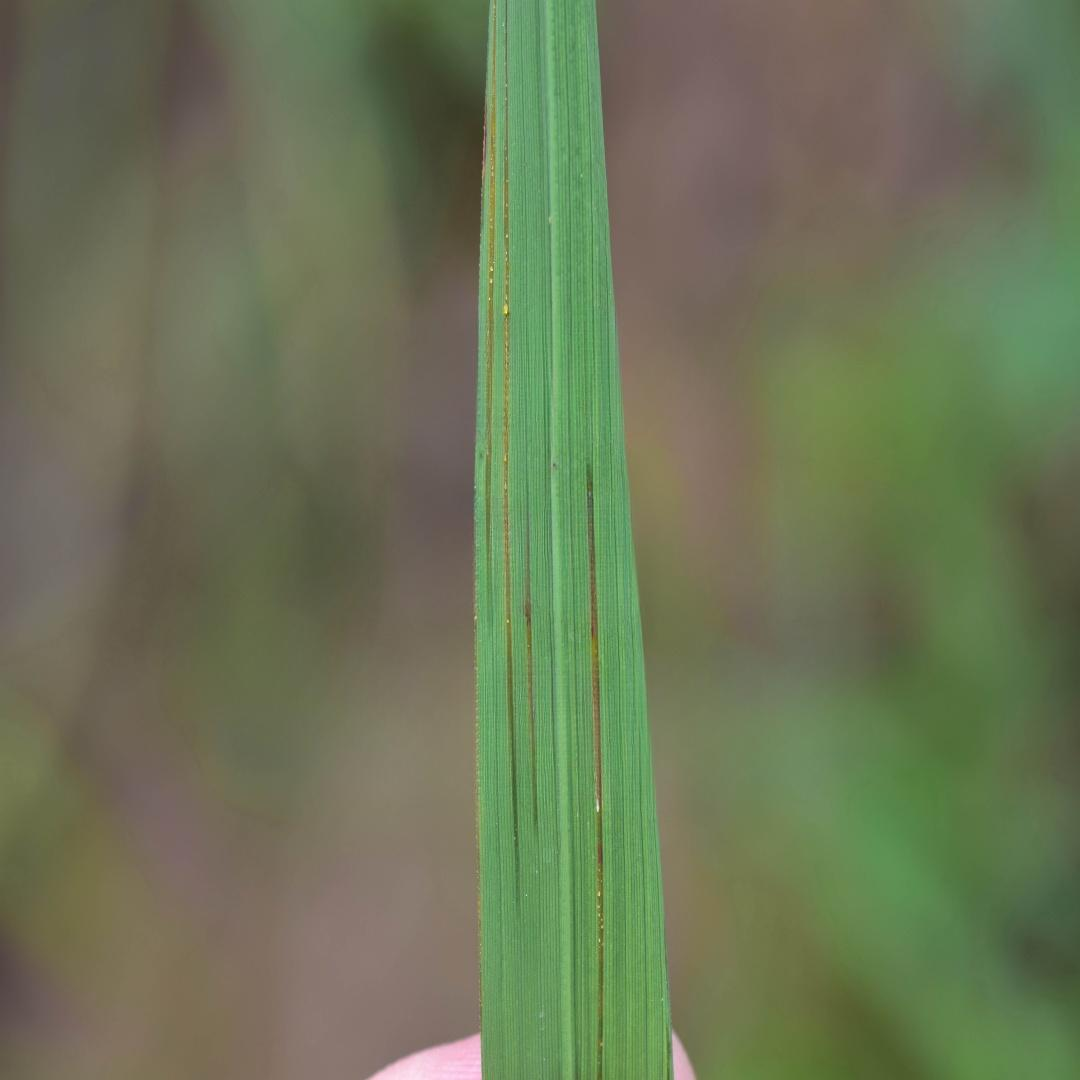BLS: (502, 1, 518, 871), (584, 459, 603, 1079), (486, 0, 496, 592), (526, 508, 539, 837)
LEAF: (474, 0, 673, 1079)
